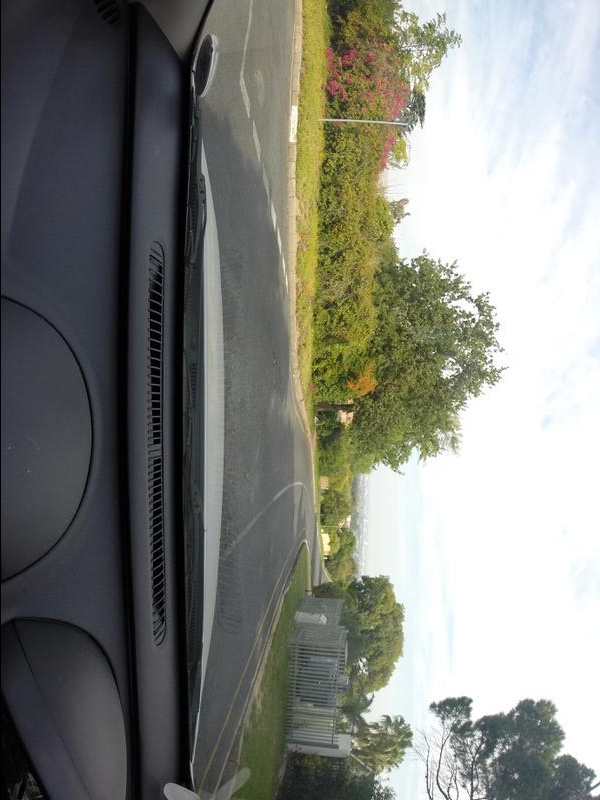pothole: (272, 356, 280, 387)
